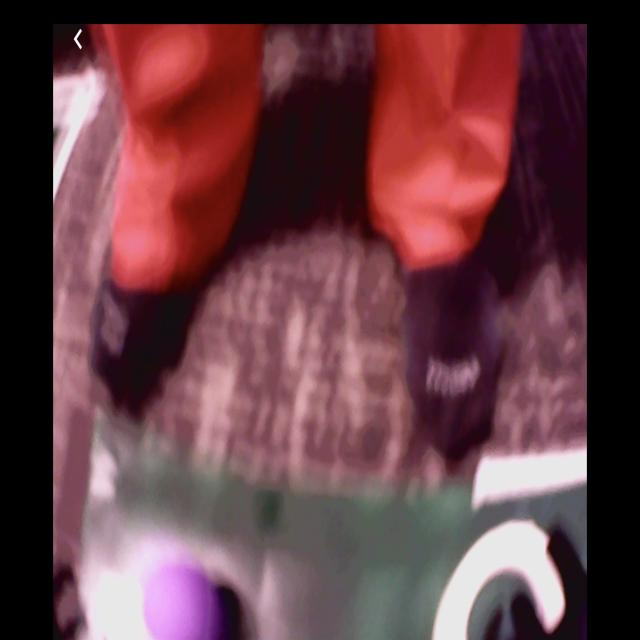ball: (141, 561, 222, 639)
